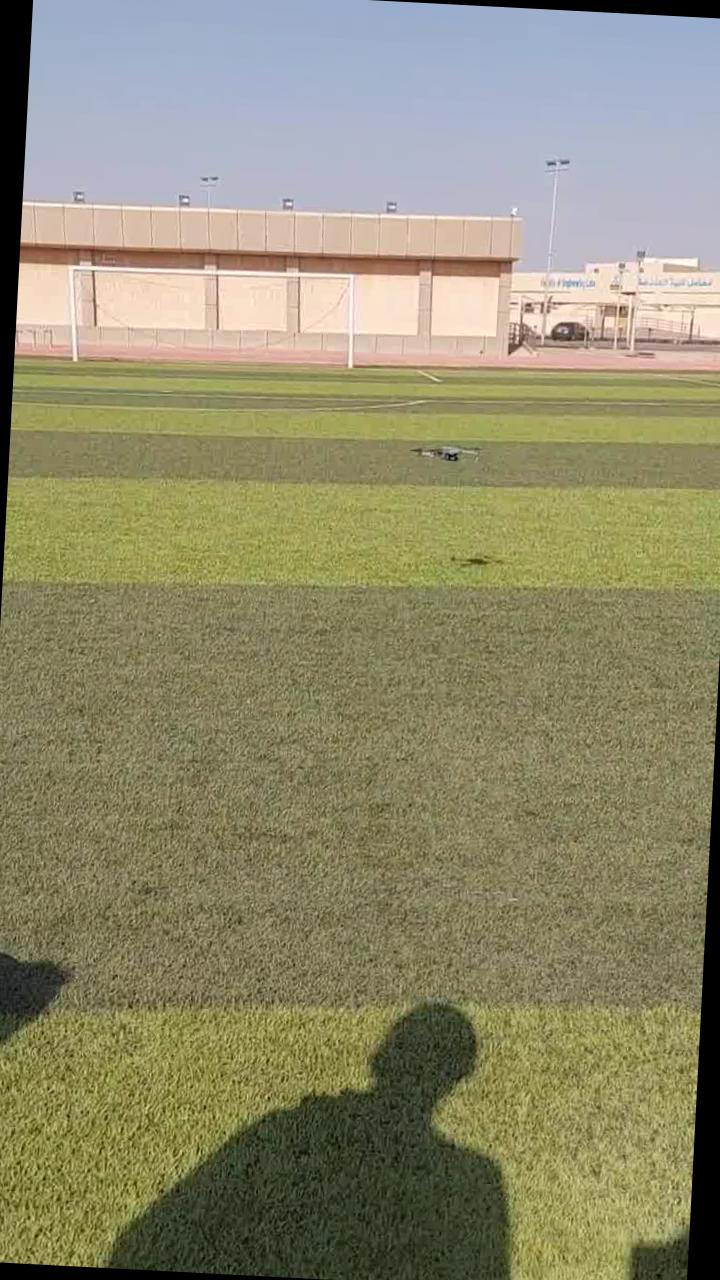drone: (398, 424, 476, 469)
